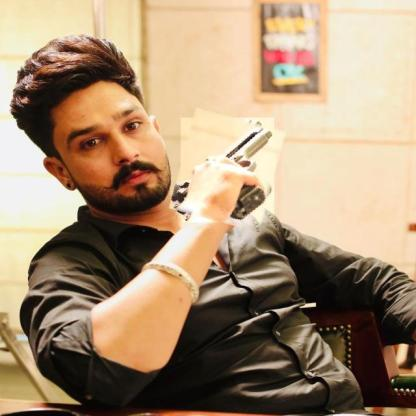handgun: (174, 113, 280, 227)
